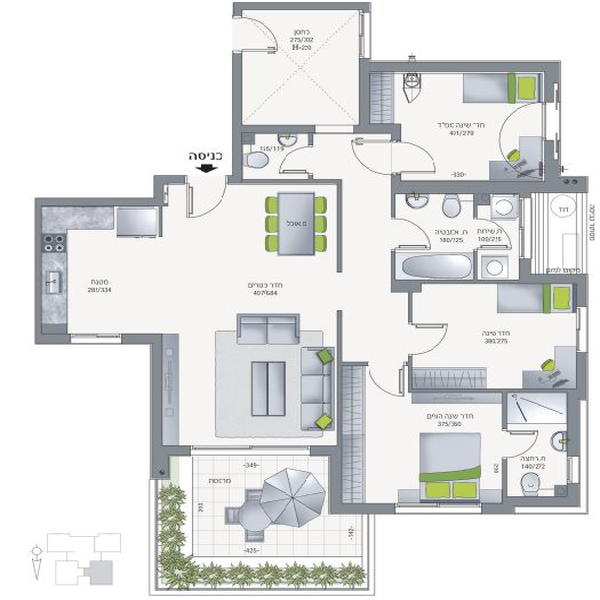door: (391, 132, 449, 182), (186, 166, 231, 223), (233, 14, 284, 60), (337, 133, 389, 177), (406, 314, 453, 357), (365, 362, 412, 398), (472, 214, 514, 252), (501, 429, 543, 464), (394, 216, 428, 251), (275, 144, 311, 176)
room: (24, 191, 350, 331), (335, 360, 587, 518), (366, 45, 573, 188), (142, 332, 341, 460), (403, 278, 600, 404), (391, 174, 594, 287), (232, 4, 369, 133)
wall: (327, 299, 351, 519), (367, 57, 562, 76), (394, 175, 589, 194), (145, 332, 168, 477), (411, 383, 588, 401), (35, 197, 50, 345), (330, 174, 351, 274), (563, 385, 588, 462), (232, 57, 246, 179), (239, 173, 345, 188), (337, 499, 396, 525), (236, 120, 318, 134), (237, 3, 367, 11), (32, 200, 161, 208), (357, 59, 371, 130), (506, 494, 585, 506), (362, 122, 401, 143), (120, 328, 169, 344), (391, 278, 423, 290)
window: (191, 439, 309, 460), (394, 495, 482, 519), (68, 328, 124, 356), (511, 195, 532, 259), (573, 303, 590, 352), (559, 454, 584, 487)
